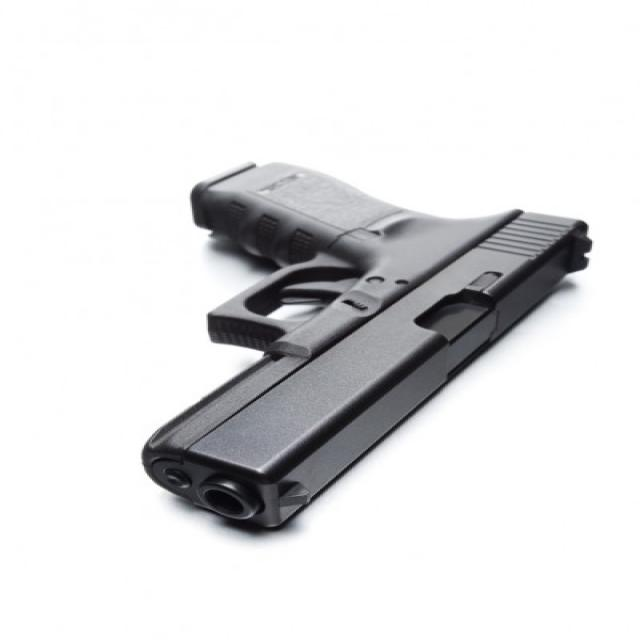pistol: (133, 158, 594, 548)
